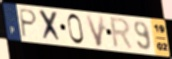0: (66, 13, 85, 45)
9: (133, 20, 153, 52)
P: (19, 8, 39, 39)
R: (109, 16, 135, 52)
V: (84, 14, 106, 48)
X: (38, 9, 64, 45)
